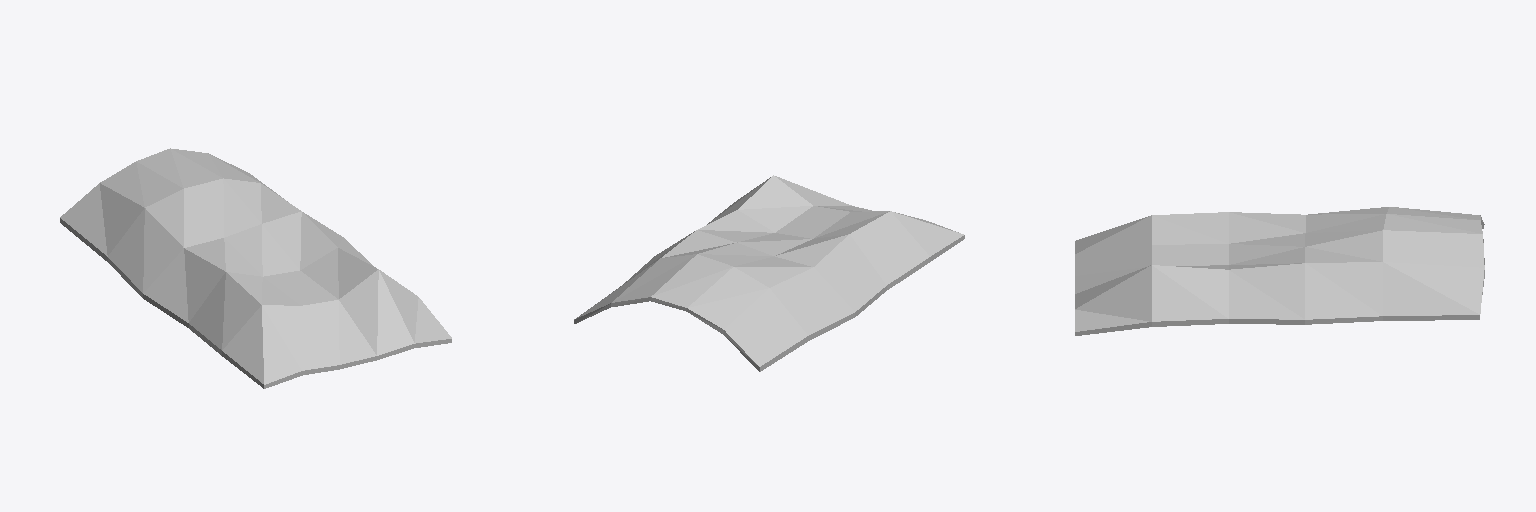
Rendered from Blanket.obj.
3 views of the same model, side by side, from view 1: azimuth 30°, elevation 25°; view 2: azimuth 150°, elevation 25°; view 3: azimuth 270°, elevation 25° (orthographic).
Visible parts, largest first — view 1: Box002; view 2: Box002; view 3: Box002.
Boxes of the visible parts, x1,y1,x2,y2 form: Box002: [60, 148, 451, 388]; Box002: [574, 175, 964, 371]; Box002: [1075, 207, 1484, 335].
Size of the model in its own units: 48.12 by 16.13 by 85.44.